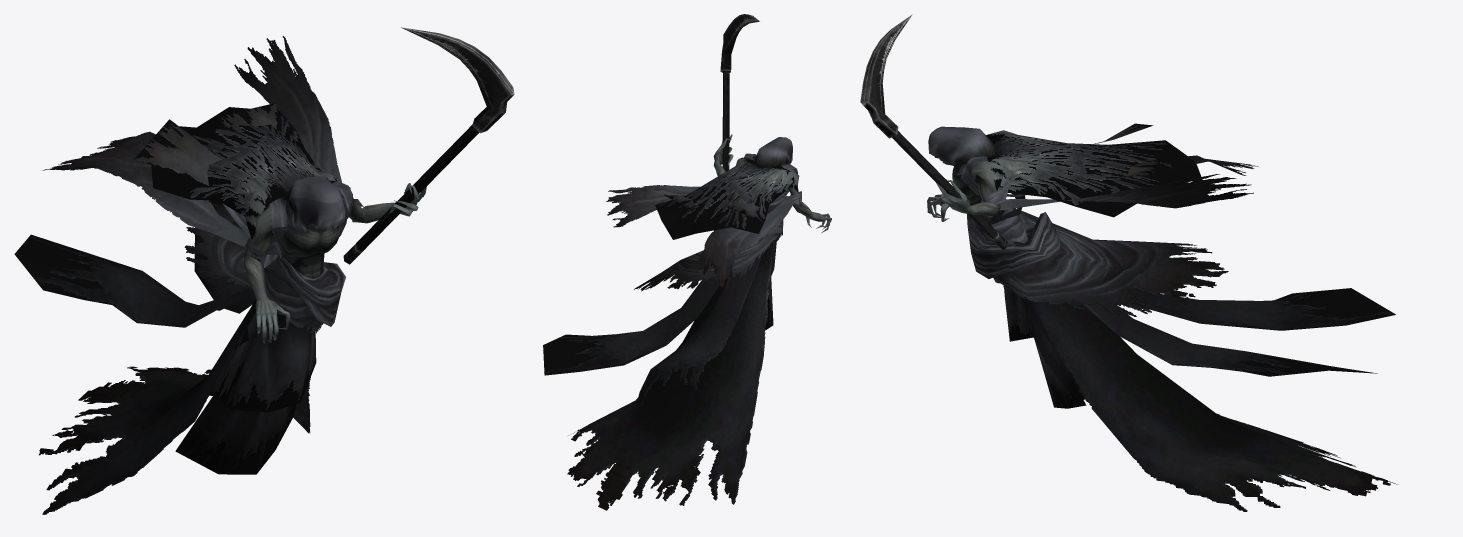
3 renders of one model, left to right at view 1: azimuth 30°, elevation 25°; view 2: azimuth 150°, elevation 25°; view 3: azimuth 270°, elevation 25°, orthographic. The views are drawn at different scales.
Parts seen in each view (by area): view 1: night_2; view 2: night_2; view 3: night_2.
Boxes of the visible parts, x1,y1,x2,y2 form: night_2: (14,27,514,514); night_2: (543,14,831,510); night_2: (860,14,1397,511).
Bounding box in the file's own units: 5.35 × 11.41 × 11.87.
2 materials, 2 textured.
